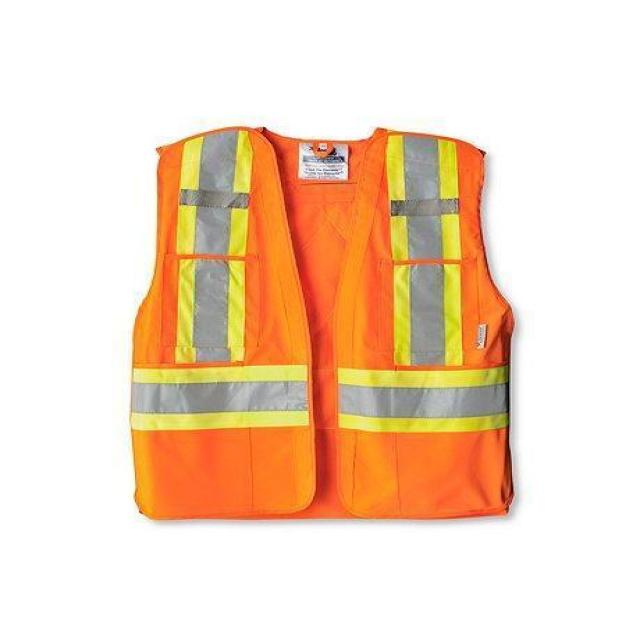Vest: (130, 120, 518, 522)
